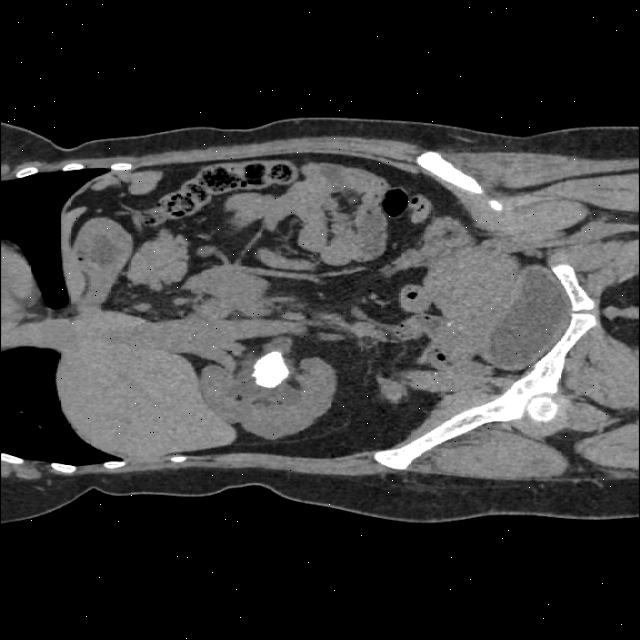kidneystone: (252, 350, 289, 388)
